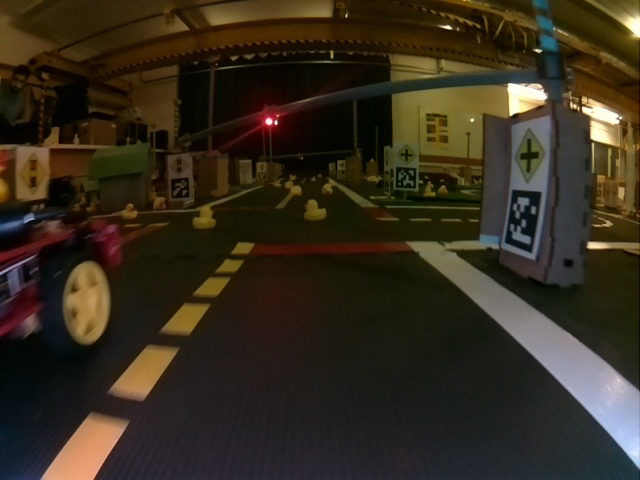Duckie: (194, 208, 216, 228), (306, 201, 325, 220), (123, 204, 136, 219), (153, 197, 167, 209), (322, 183, 332, 193), (291, 186, 300, 196)
Duckiebot: (3, 214, 119, 351)
Intersection sign: (513, 128, 542, 177), (396, 144, 416, 163)
QR code: (503, 190, 542, 254), (396, 166, 417, 188), (171, 178, 189, 197)
Signal sign: (17, 152, 49, 196), (170, 157, 189, 174)
Traffic light: (261, 111, 279, 128)
